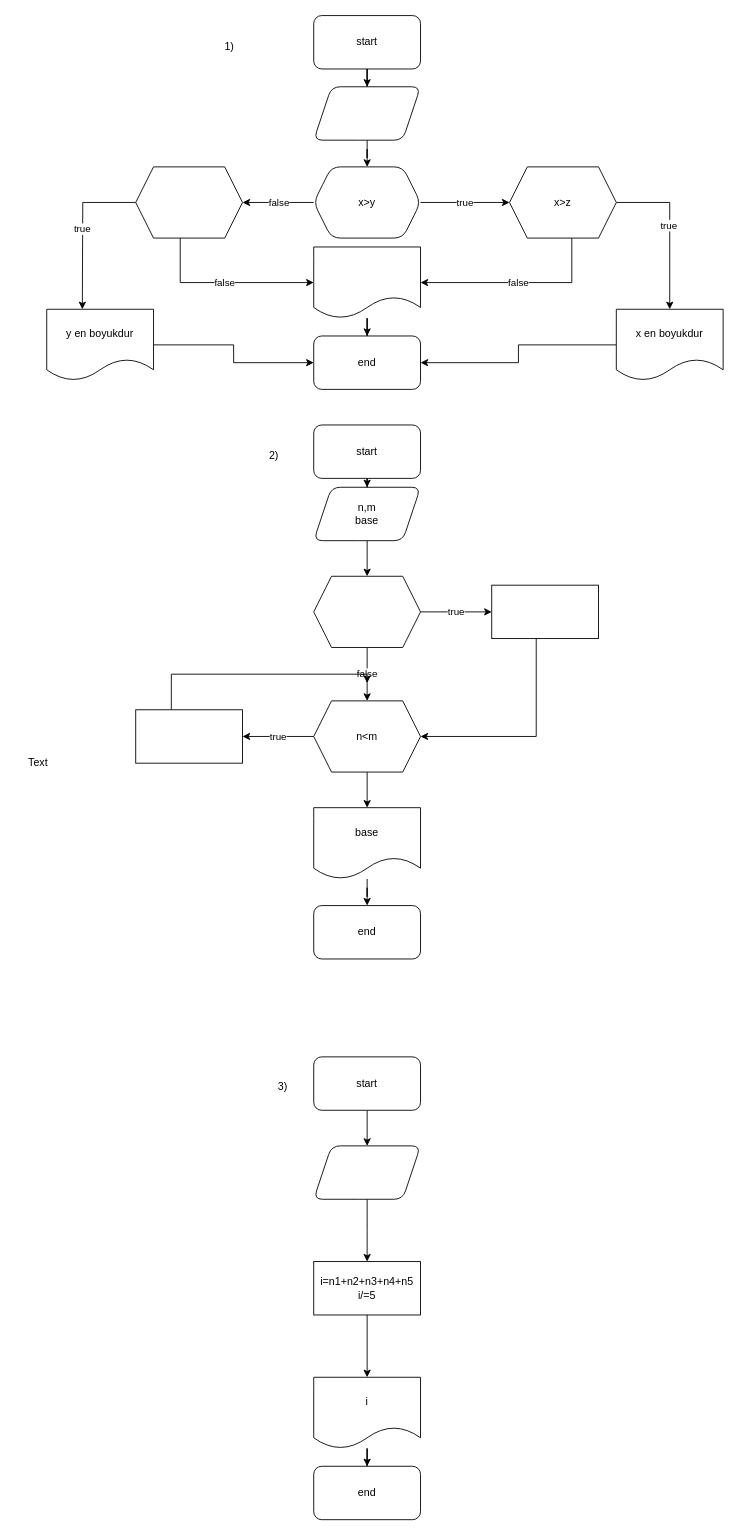
Image size: 739x1535. Some labels were removed from this diagram. Each missing label, with the centre of its shape:
"n%2=0" goes at point 367,611.
"n++" goes at point 545,611.
"n+=2 base++" goes at point 189,736.
"n1,n2,n3,n4,n5 i" goes at point 367,1172.
"x y z" goes at point 367,113.
"y>z" goes at point 189,202.
"z en boyukdur" goes at point 367,282.
